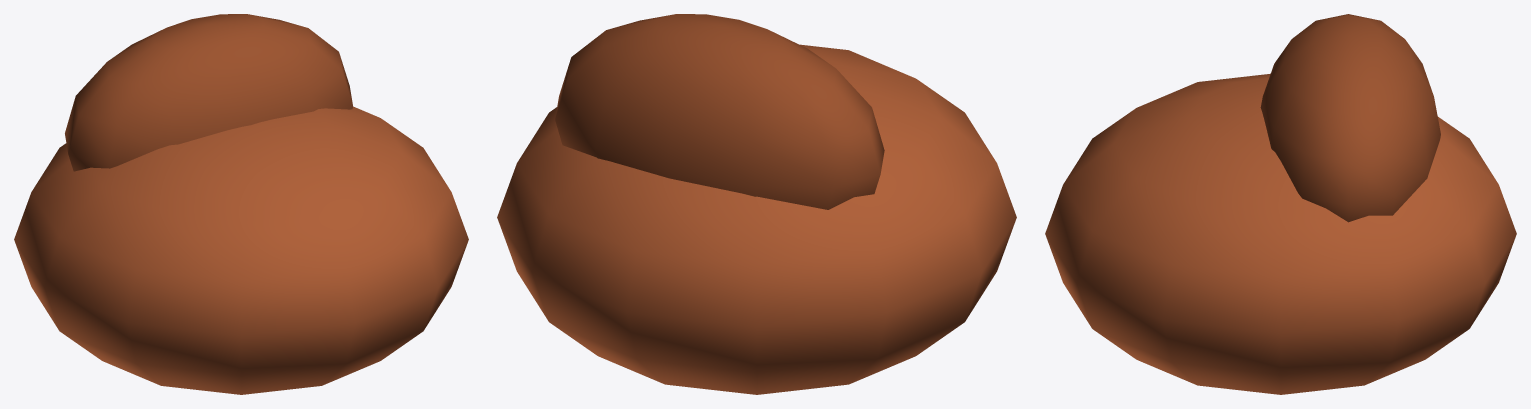
File: bean-bag.glb
3 renders of one model, left to right at view 1: azimuth 30°, elevation 25°; view 2: azimuth 150°, elevation 25°; view 3: azimuth 270°, elevation 25°, orthographic. The views are drawn at different scales.
Size of the model in its own units: 0.56 by 0.428 by 0.56.
